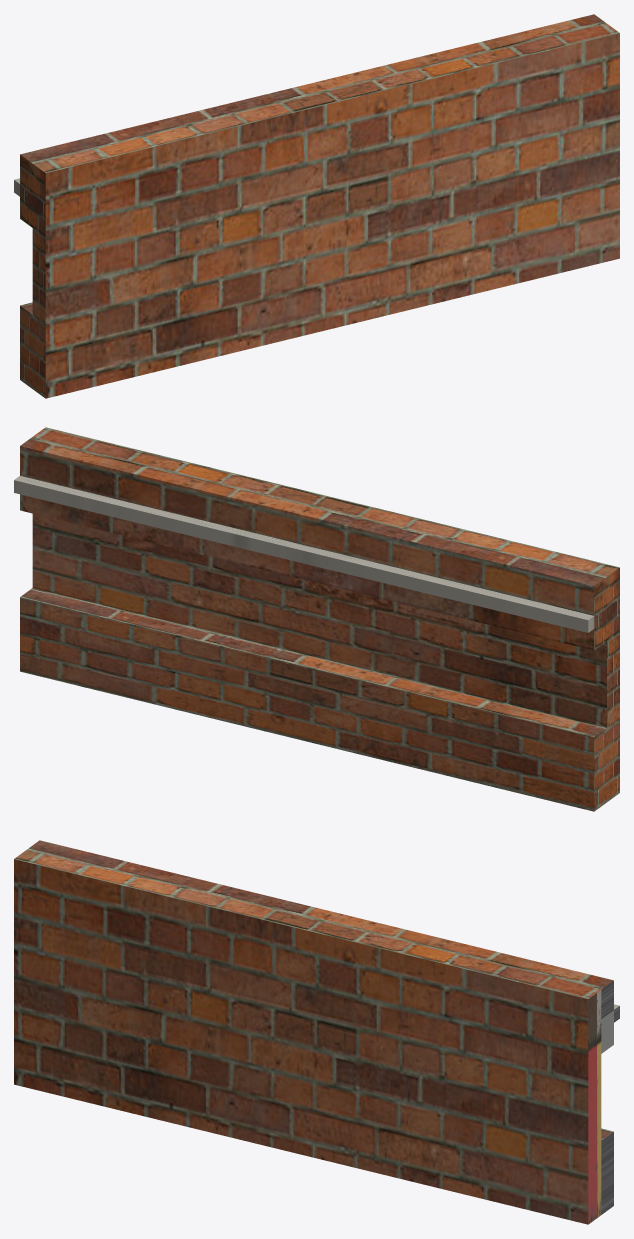
The model's file is fbx_playground_wall_1.fbx.
The picture shows the model from 3 angles, top to bottom: view 1: azimuth 30°, elevation 25°; view 2: azimuth 150°, elevation 25°; view 3: azimuth 330°, elevation 25°; orthographic projection.
Visible parts, largest first — view 1: fbx_playground_wall_1; view 2: fbx_playground_wall_1; view 3: fbx_playground_wall_1.
Boxes of the visible parts, bbox=[...] form: fbx_playground_wall_1: bbox=[14, 14, 619, 398]; fbx_playground_wall_1: bbox=[14, 427, 619, 811]; fbx_playground_wall_1: bbox=[14, 840, 619, 1224].
Bounding box in the file's own units: 4.16 × 1.56 × 0.3968.
1 material, 1 textured.
